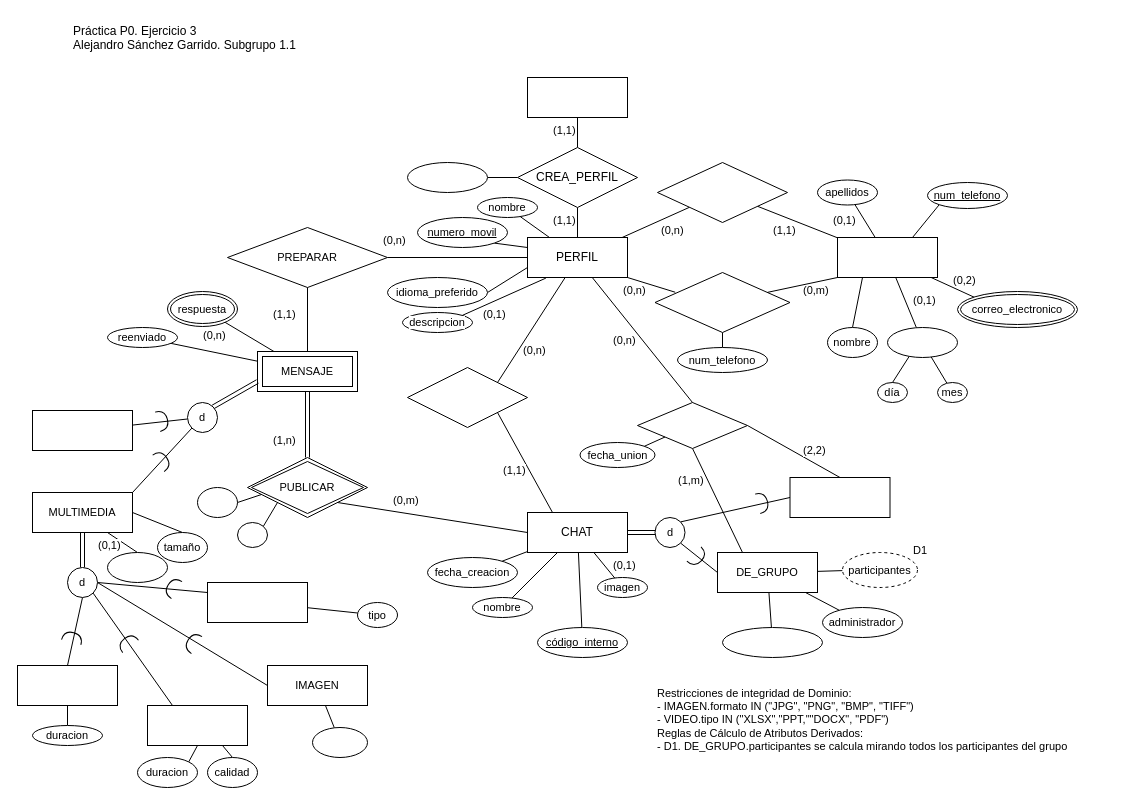
Some shapes in this 1132 by 805 pixel diagram are drawn without their labels. The shapes that lost their labels are listed below. From the top down, each one's centre as x and y in pixels, then its label:
At point (577, 97): "USUARIO".
At point (447, 177): "fecha_registro".
At point (722, 192): "CREA_CONTACTO".
At point (887, 257): "CONTACTO".
At point (722, 302): "ES_CONTACTO_DE".
At point (922, 342): "cumpleaños".
At point (467, 397): "CREA_CHAT".
At point (82, 430): "TEXTO".
At point (692, 425): "PARTICIPA_EN".
At point (217, 502): "fecha".
At point (839, 497): "PRIVADO".
At point (252, 535): "hora".
At point (137, 567): "comentario".
At point (257, 602): "DOCUMENTO".
At point (772, 642): "mensaje_anclado".
At point (67, 685): "AUDIO".
At point (197, 725): "VIDEO".
At point (340, 742): "formato".
